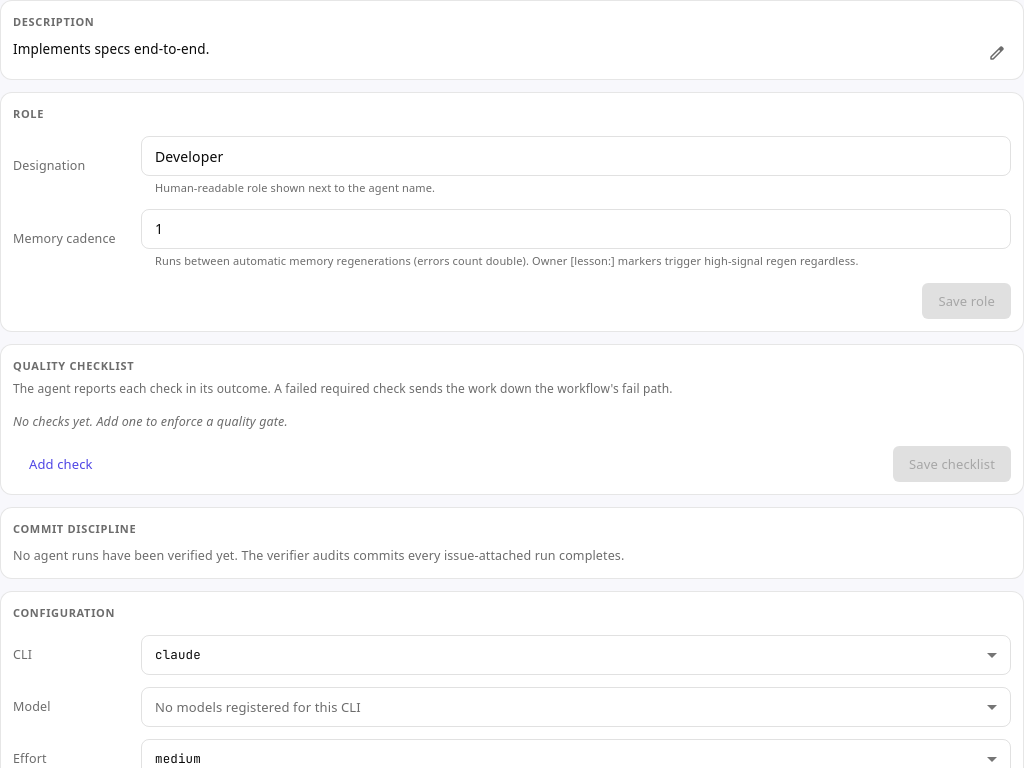
Test: OverviewTabContent › clicking edit icon shows description textarea and Save/Cancel buttons
expect the text "Implements specs end-to-end." is shown: met, box [13, 40, 209, 58]
What coordinates should you click on to do the following:
click the button named "Edit description"
I would click on:
 (997, 53)
Its box is [983, 39, 1011, 67].
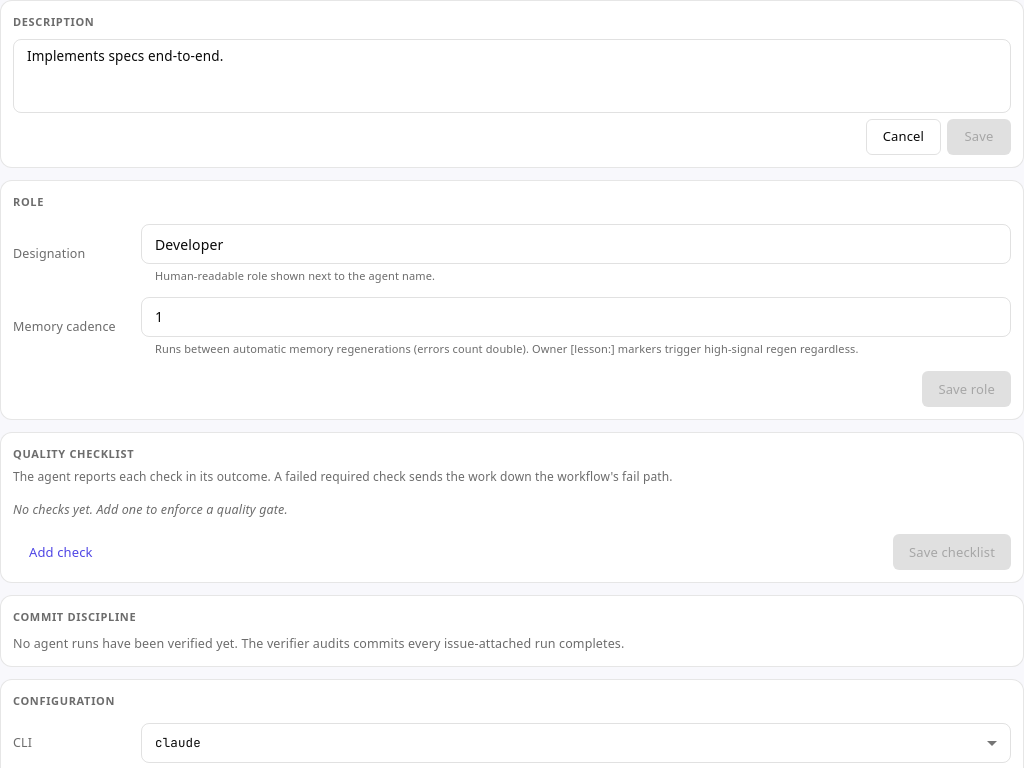
expect the button "Save" is shown: met, box [947, 119, 1011, 155]
expect the button "Cancel" is shown: met, box [866, 119, 941, 155]
